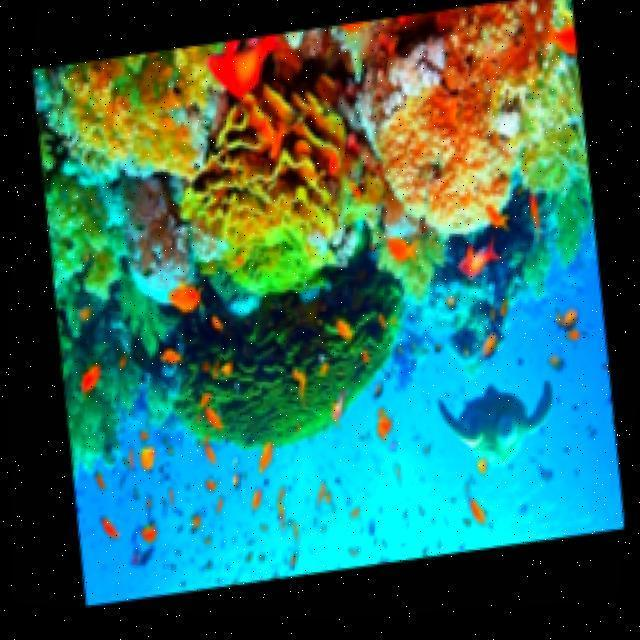Healthy Coral: (363, 0, 567, 263), (162, 60, 360, 322), (161, 260, 413, 438), (19, 153, 142, 344), (72, 65, 218, 217)
